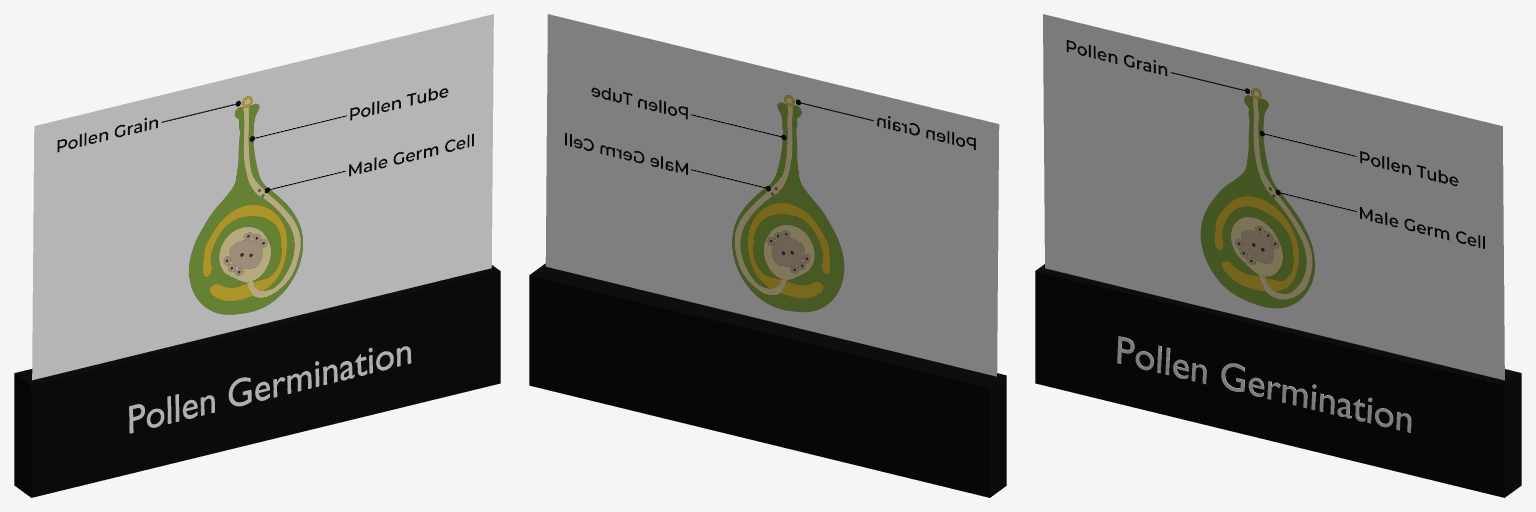
The model's file is pollen.gltf.
3 views of the same model, side by side, from view 1: azimuth 30°, elevation 25°; view 2: azimuth 150°, elevation 25°; view 3: azimuth 330°, elevation 25° (orthographic).
Visible parts, largest first — view 1: pollen, Cube.002, Text.002; view 2: pollen, Cube.002; view 3: pollen, Cube.002, Text.002.
Boxes of the visible parts, x1,y1,x2,y2 form: pollen: [32, 14, 493, 380]; Cube.002: [14, 265, 500, 497]; Text.002: [129, 346, 411, 433]; pollen: [545, 14, 999, 376]; Cube.002: [529, 263, 1006, 497]; pollen: [1043, 14, 1504, 380]; Cube.002: [1035, 264, 1521, 497]; Text.002: [1117, 336, 1411, 432].
Bounding box in the file's own units: 3.34 × 2.51 × 0.3141.
Materials: 2 (1 with a texture image).
